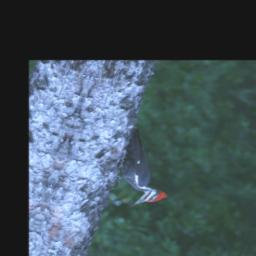Woodpecker: (103, 122, 189, 216)
